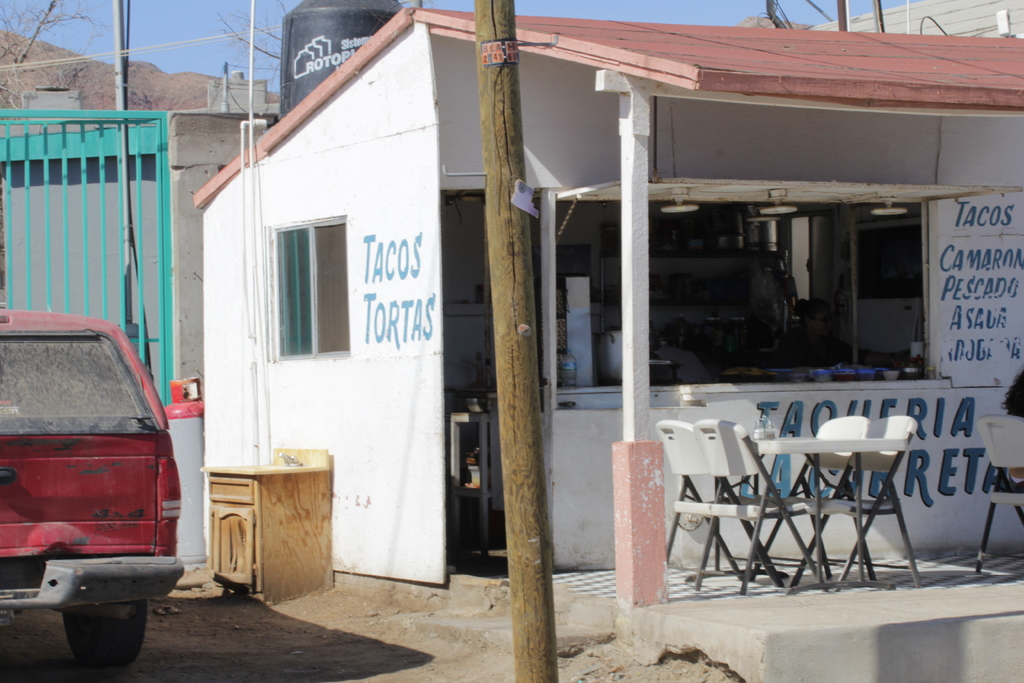mobil: (1, 315, 188, 665)
